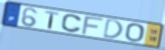6: (21, 7, 39, 28)
C: (60, 14, 83, 34)
D: (102, 18, 125, 40)
F: (80, 15, 106, 36)
O: (124, 23, 146, 43)
T: (44, 10, 60, 30)
